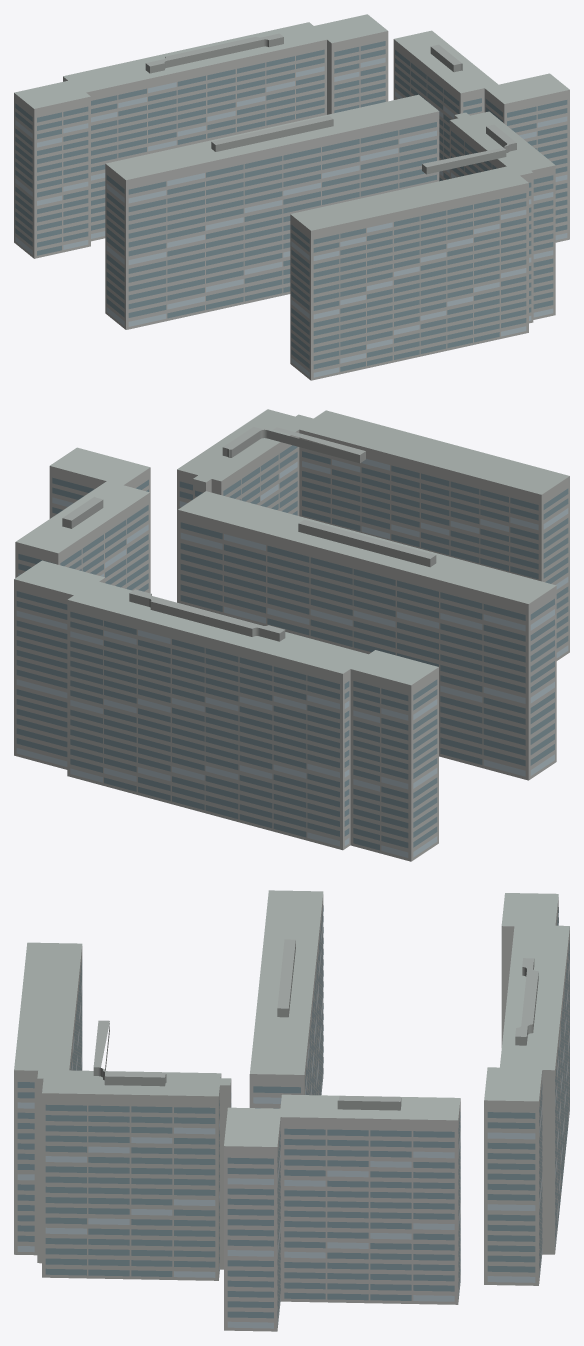
The model's file is apt-a12013202.glb.
3 renders of one model, top to bottom at view 1: azimuth 30°, elevation 25°; view 2: azimuth 150°, elevation 25°; view 3: azimuth 270°, elevation 25°, orthographic. The views are drawn at different scales.
Parts seen in each view (by area): view 1: apt-a12013202; view 2: apt-a12013202; view 3: apt-a12013202.
Part boxes in pixels (bbox=[...]): apt-a12013202: bbox=[14, 14, 569, 380]; apt-a12013202: bbox=[14, 409, 569, 861]; apt-a12013202: bbox=[14, 890, 569, 1331].
Bounding box in the file's own units: 140 × 49 × 128.
